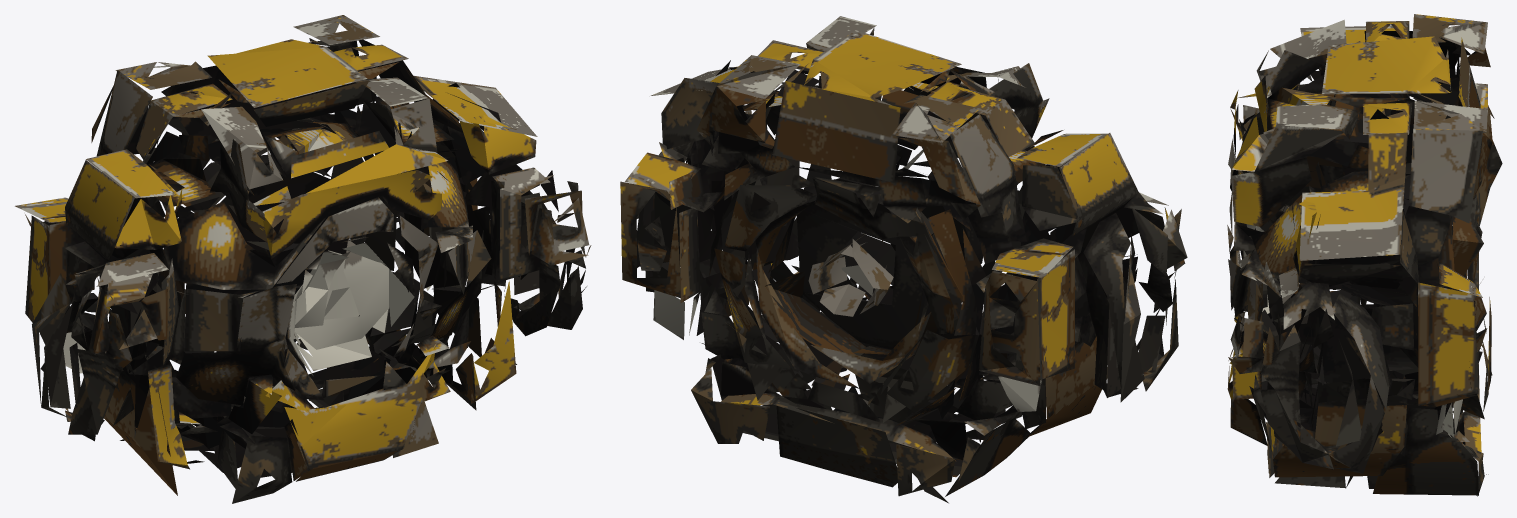
Rendered from co_mag.glb.
The picture shows the model from 3 angles, left to right: view 1: azimuth 30°, elevation 25°; view 2: azimuth 150°, elevation 25°; view 3: azimuth 270°, elevation 25°; orthographic projection.
Visible parts, largest first — view 1: co_mag; view 2: co_mag; view 3: co_mag.
Part boxes in pixels (<box>): co_mag: <box>15,15,591,503</box>; co_mag: <box>620,16,1187,503</box>; co_mag: <box>1227,14,1502,496</box>.
Bounding box in the file's own units: 0.1297 × 0.0965 × 0.0627.
1 material, 1 textured.
